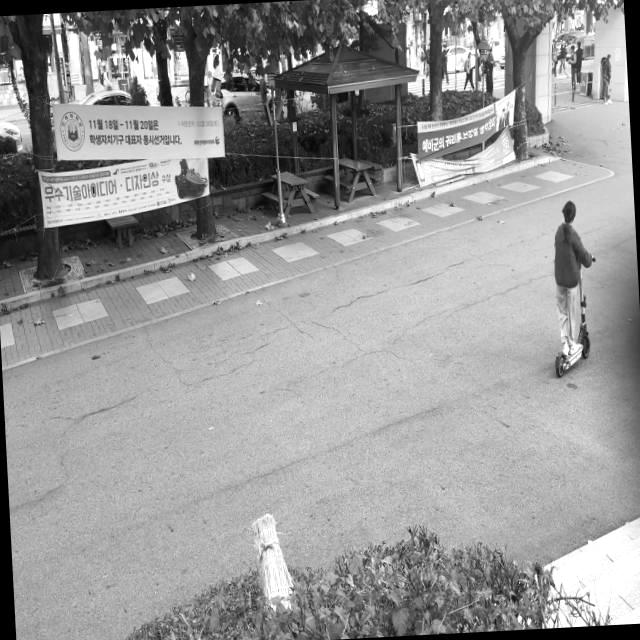bare_head: (558, 194, 582, 223)
human: (540, 192, 585, 346)
kickboard: (528, 340, 611, 389)
